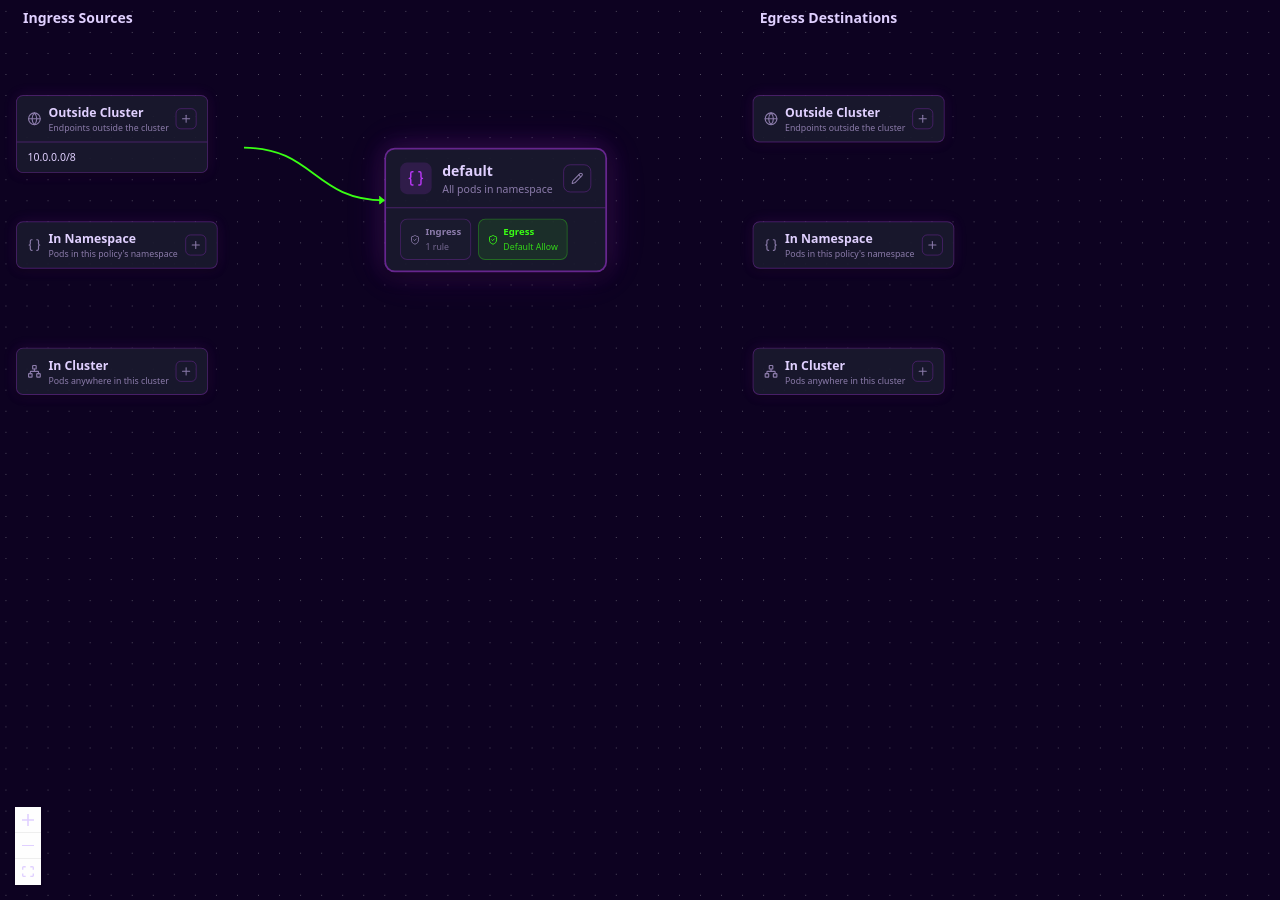
Scenario: adding a rule › closes on Escape and keeps the previous state
Click the button named "New Ingress rule (In Cluster)" at (186, 371), box top-left (176, 361), bottom-right (197, 382)
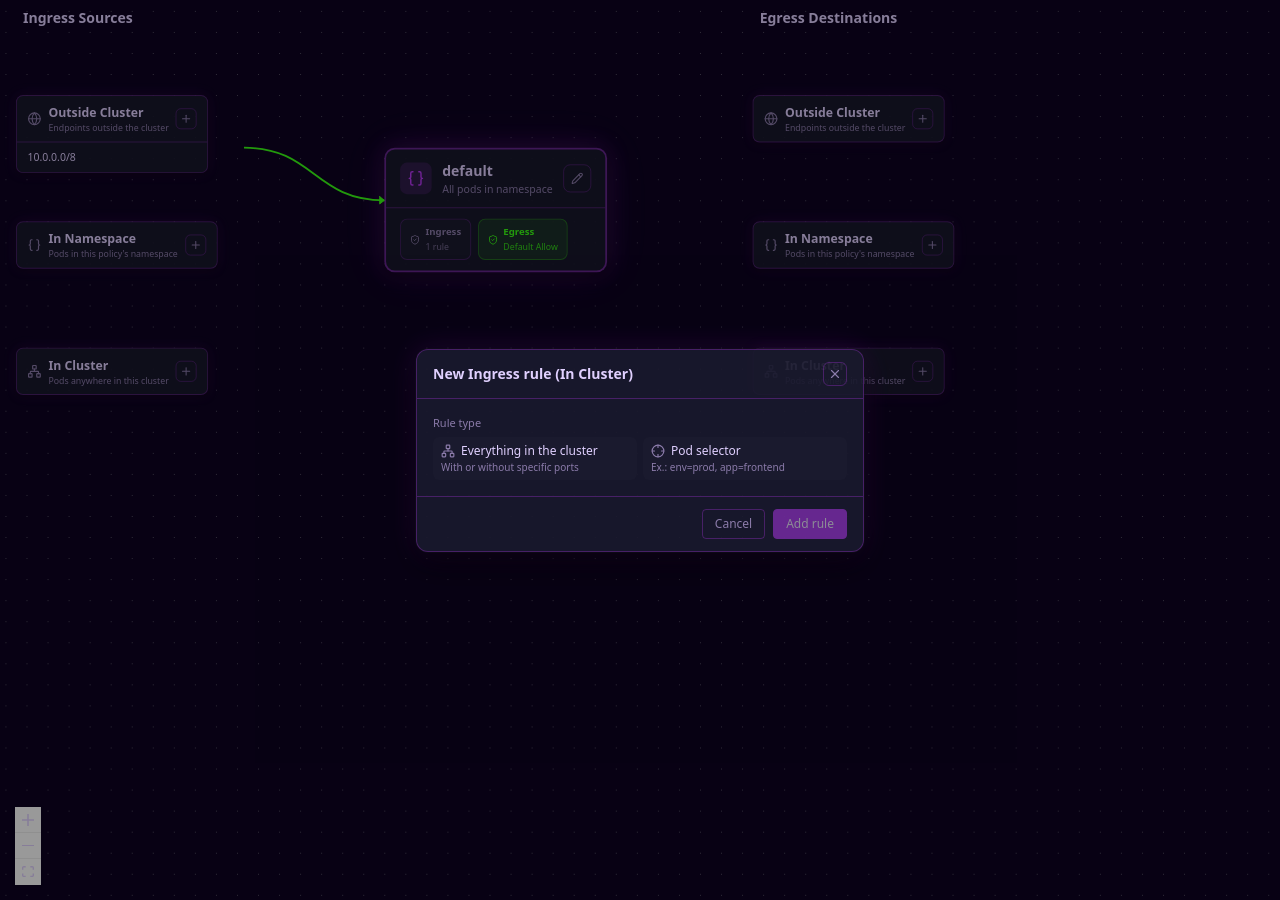
Press Escape
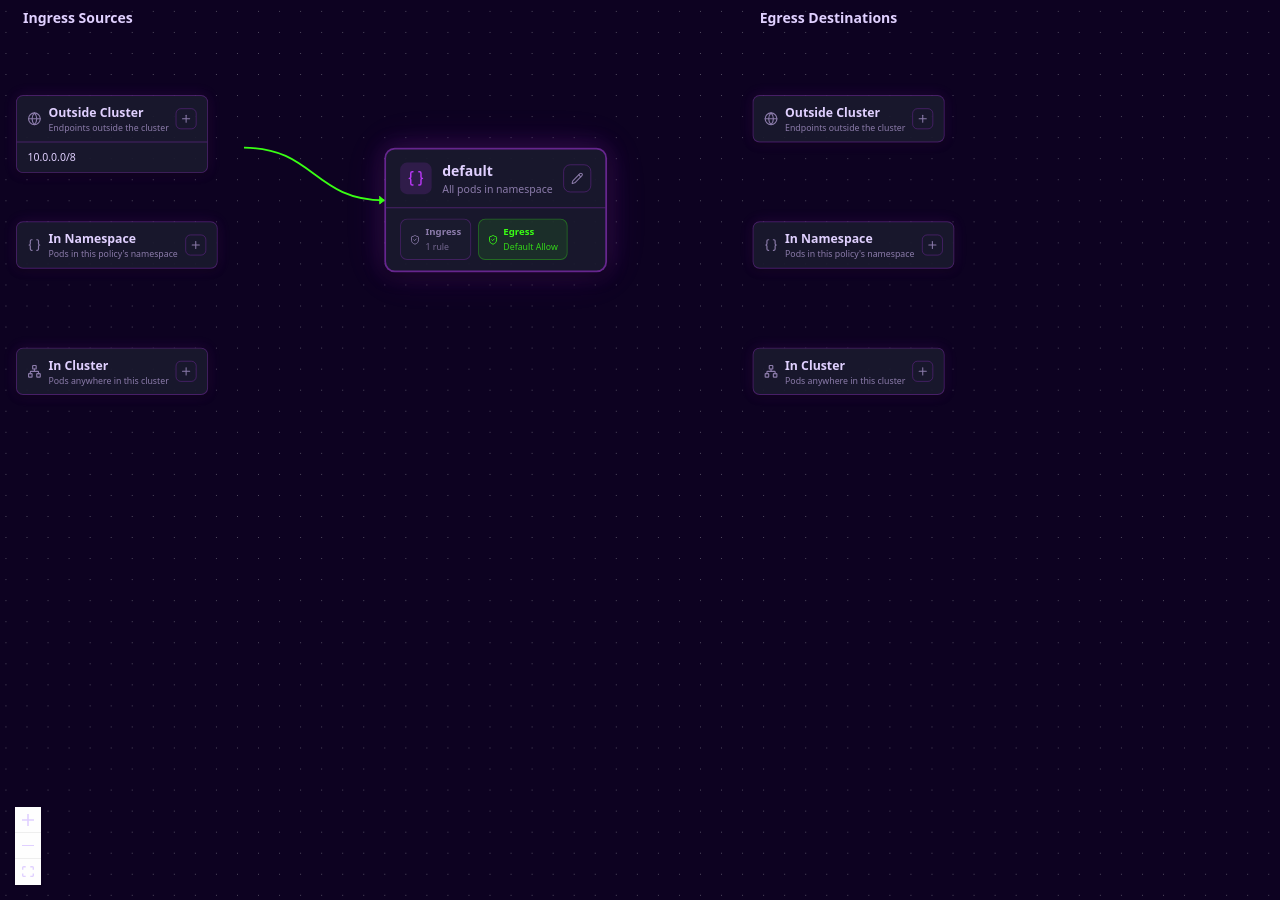
expect the text "10.0.0.0/8" is shown: met, box top-left (27, 149), bottom-right (76, 164)
expect the dialog is gone: met
